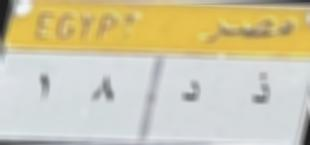1: (35, 70, 55, 103)
8: (87, 73, 118, 109)
daal: (177, 77, 204, 106)
zaal: (248, 68, 272, 110)
